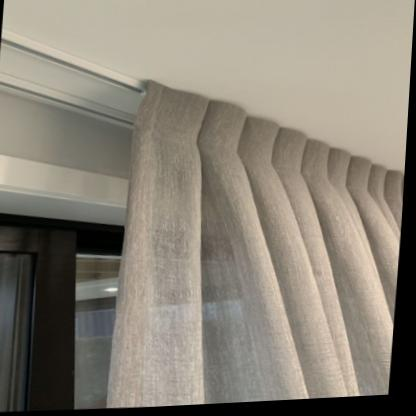Curtains: (109, 82, 407, 409)
